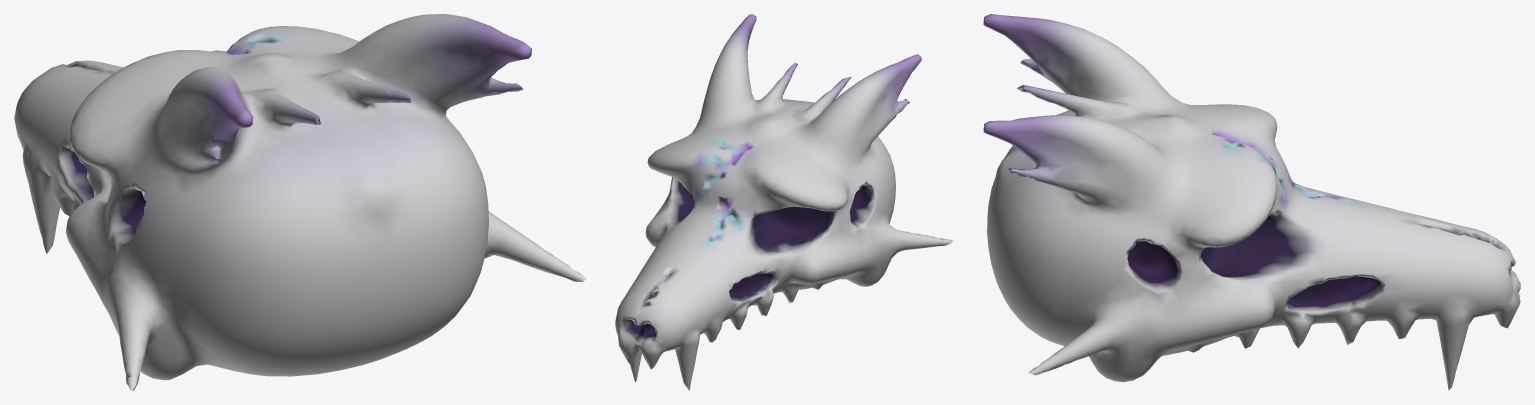
File: BlasterSkullEclipse.glb
3 renders of one model, left to right at view 1: azimuth 30°, elevation 25°; view 2: azimuth 150°, elevation 25°; view 3: azimuth 270°, elevation 25°, orthographic. The views are drawn at different scales.
Parts seen in each view (by area): view 1: BlasterSkullEclipse; view 2: BlasterSkullEclipse; view 3: BlasterSkullEclipse.
Part boxes in pixels (x1,y1,x2,y2): BlasterSkullEclipse: (14, 14, 586, 390); BlasterSkullEclipse: (615, 14, 953, 390); BlasterSkullEclipse: (983, 14, 1520, 390).
Bounding box in the file's own units: 2.56 × 2.07 × 3.3.
